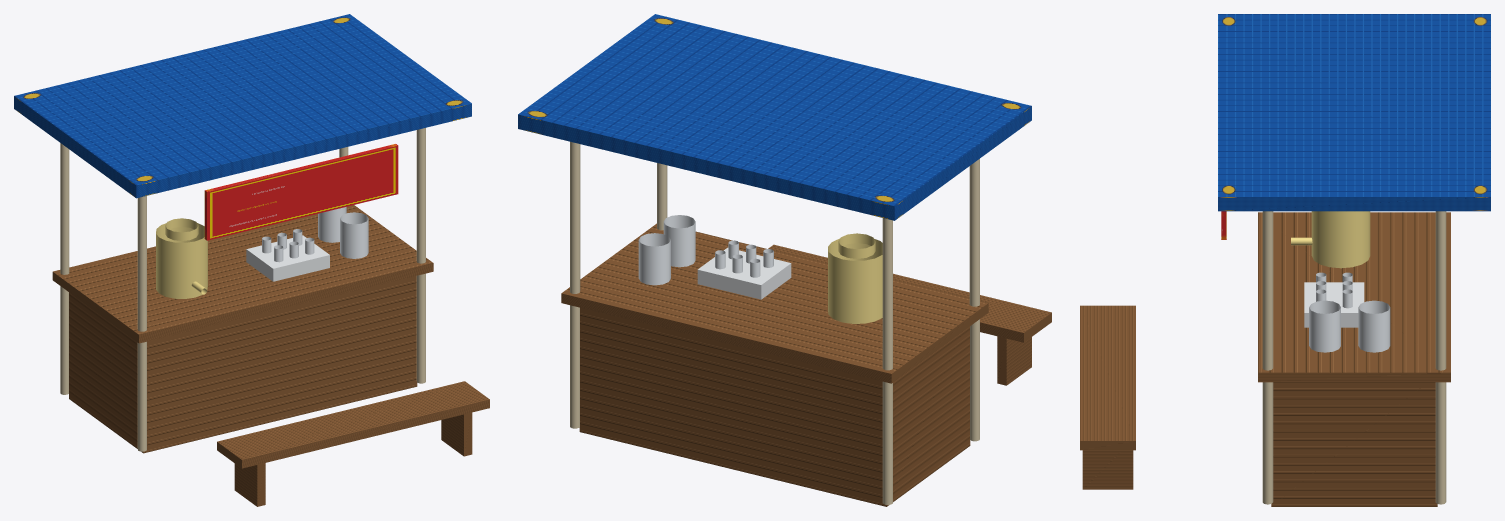
Rendered from cutting_chai_stall.glb.
The picture shows the model from 3 angles, left to right: view 1: azimuth 30°, elevation 25°; view 2: azimuth 150°, elevation 25°; view 3: azimuth 270°, elevation 25°; orthographic projection. The views are drawn at different scales.
Visible parts, largest first — view 1: Chai_Counter, Chai_Canopy, Chai_Bench, Chai_Signboard, Chai_Poles, Chai_Brass_Kettle, Chai_Biscuit_Jars, Chai_Glass_Stand, Chai_Cutting_Glasses; view 2: Chai_Counter, Chai_Canopy, Chai_Poles, Chai_Brass_Kettle, Chai_Bench, Chai_Biscuit_Jars, Chai_Glass_Stand, Chai_Cutting_Glasses; view 3: Chai_Canopy, Chai_Counter, Chai_Bench, Chai_Poles, Chai_Brass_Kettle, Chai_Biscuit_Jars, Chai_Glass_Stand, Chai_Cutting_Glasses.
Boxes of the visible parts, <box> form: Chai_Counter: <box>52,205,433,453</box>; Chai_Canopy: <box>14,14,471,198</box>; Chai_Bench: <box>217,381,489,506</box>; Chai_Signboard: <box>204,144,398,240</box>; Chai_Poles: <box>60,128,425,451</box>; Chai_Brass_Kettle: <box>156,218,207,298</box>; Chai_Biscuit_Jars: <box>318,207,368,258</box>; Chai_Glass_Stand: <box>246,235,329,281</box>; Chai_Cutting_Glasses: <box>262,229,314,262</box>; Chai_Counter: <box>561,223,988,506</box>; Chai_Canopy: <box>518,14,1031,220</box>; Chai_Poles: <box>570,141,979,504</box>; Chai_Brass_Kettle: <box>828,233,882,323</box>; Chai_Bench: <box>768,244,1051,385</box>; Chai_Biscuit_Jars: <box>638,215,695,285</box>; Chai_Glass_Stand: <box>697,247,791,299</box>; Chai_Cutting_Glasses: <box>715,240,773,277</box>; Chai_Canopy: <box>1218,14,1490,211</box>; Chai_Counter: <box>1258,212,1450,506</box>; Chai_Bench: <box>1080,305,1135,489</box>; Chai_Poles: <box>1262,211,1446,504</box>; Chai_Brass_Kettle: <box>1291,211,1370,268</box>; Chai_Biscuit_Jars: <box>1309,300,1390,352</box>; Chai_Glass_Stand: <box>1304,282,1364,327</box>; Chai_Cutting_Glasses: <box>1316,272,1352,308</box>.
Size of the model in its own units: 3.25 by 2.71 by 3.08.
Materials: 7 (3 with a texture image).
